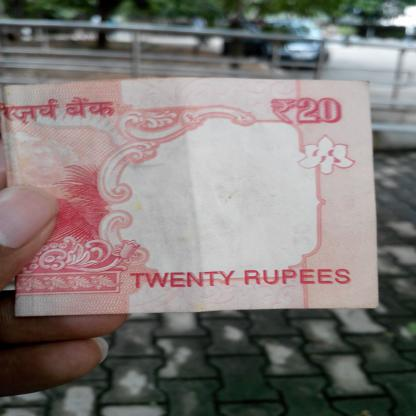Old20Back: (0, 87, 373, 307)
